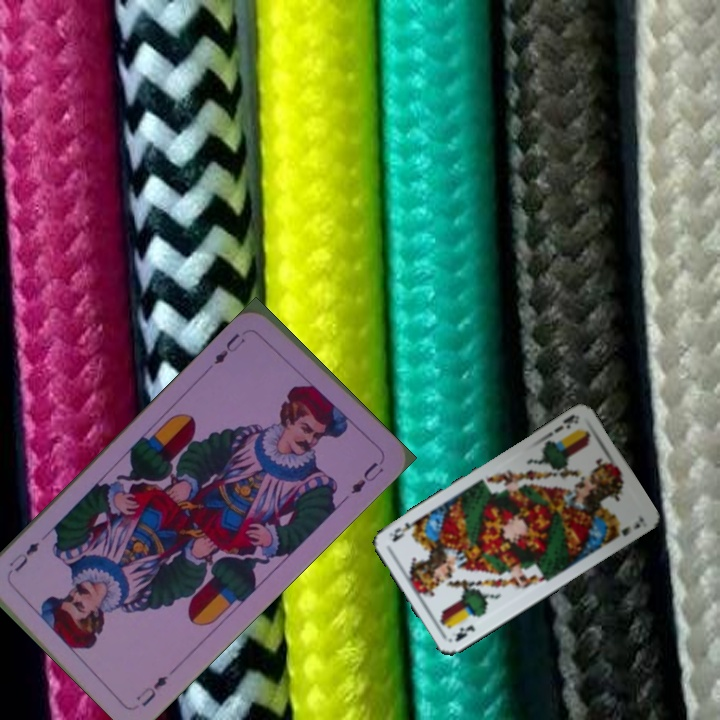EK: (550, 411, 581, 435), (451, 621, 478, 644)
EU: (209, 329, 248, 368), (132, 671, 170, 710)
